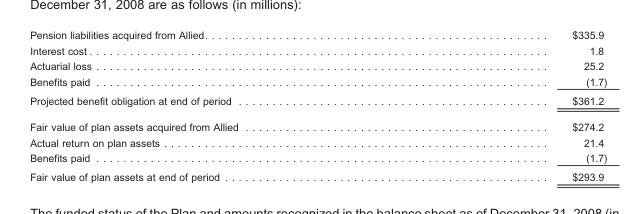table: (29, 28, 606, 182)
table column: (29, 28, 404, 182), (404, 28, 606, 182)
table row: (29, 90, 606, 113), (29, 113, 606, 134), (29, 149, 606, 167), (29, 73, 606, 90), (29, 57, 606, 73), (29, 42, 606, 57), (29, 134, 606, 149), (29, 167, 606, 182), (29, 28, 606, 42)
